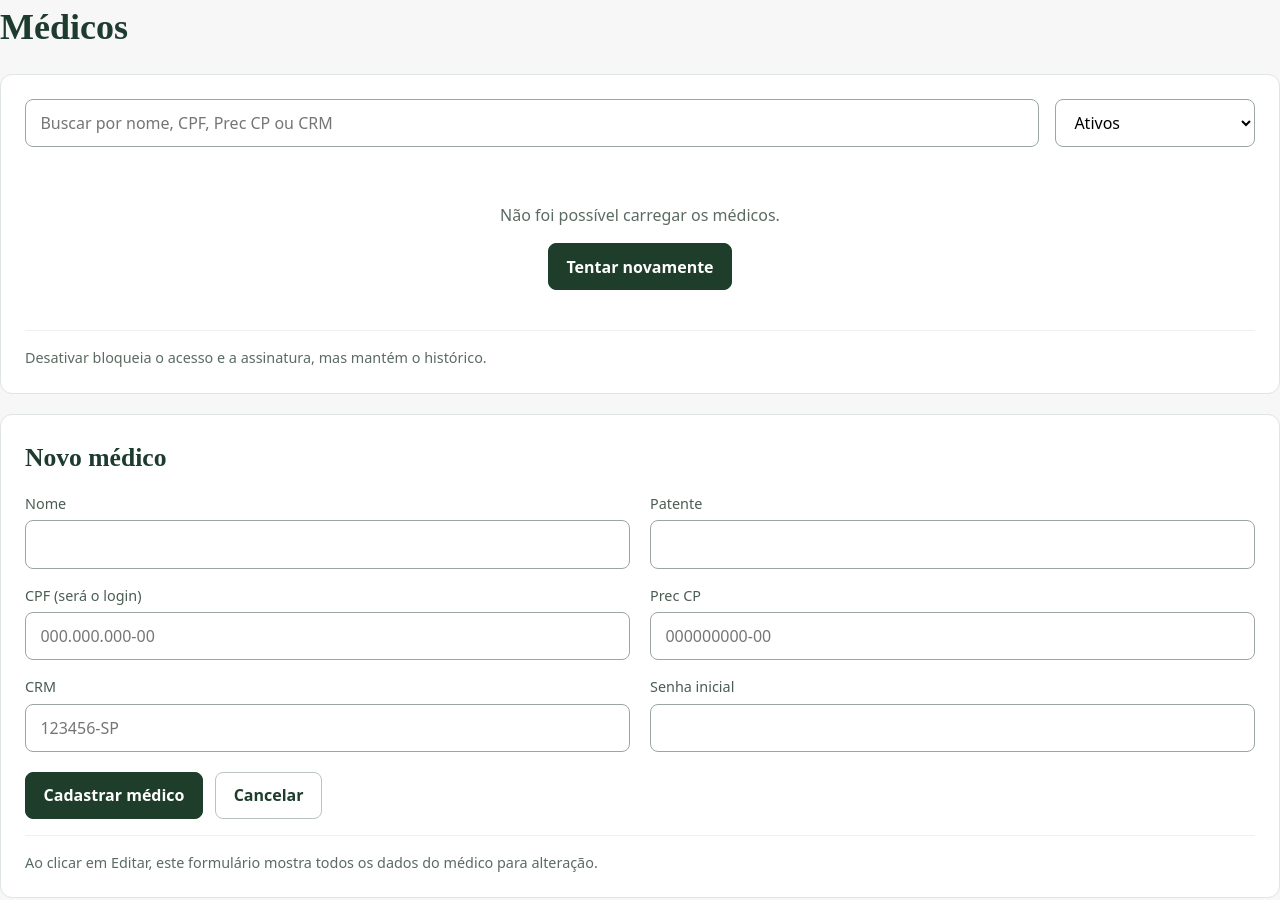
Test: T8-FE · Tela Médicos › mostra erro e tenta novamente ao clicar
The image size is (1280, 900).
Expected: the text "Não foi possível carregar os médicos." is shown, [500,204,780,226]
Click the button "Tentar novamente": (640, 267) [548,243,732,290]
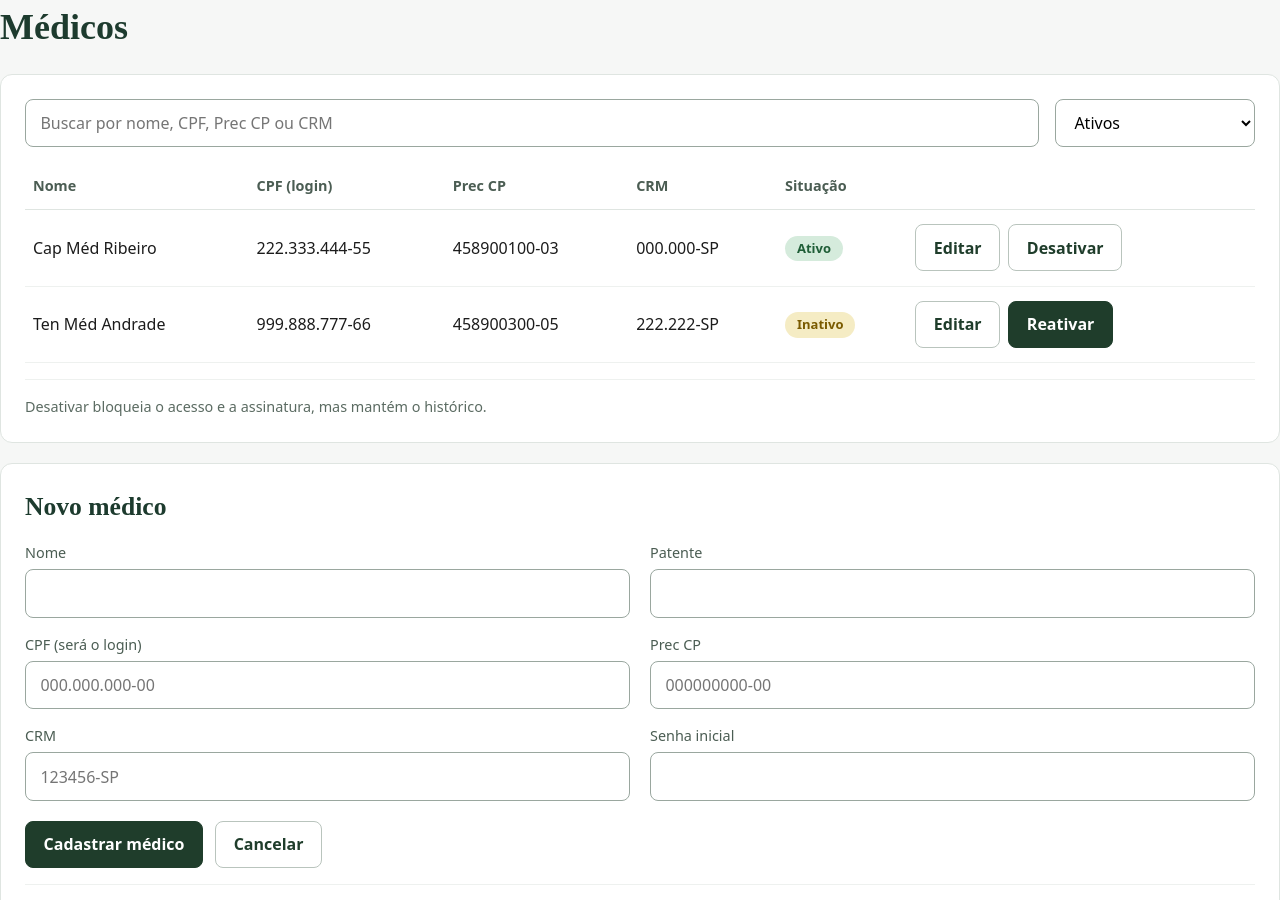
Expected: the text "Cap Méd Ribeiro" is shown, [25,210,248,286]
